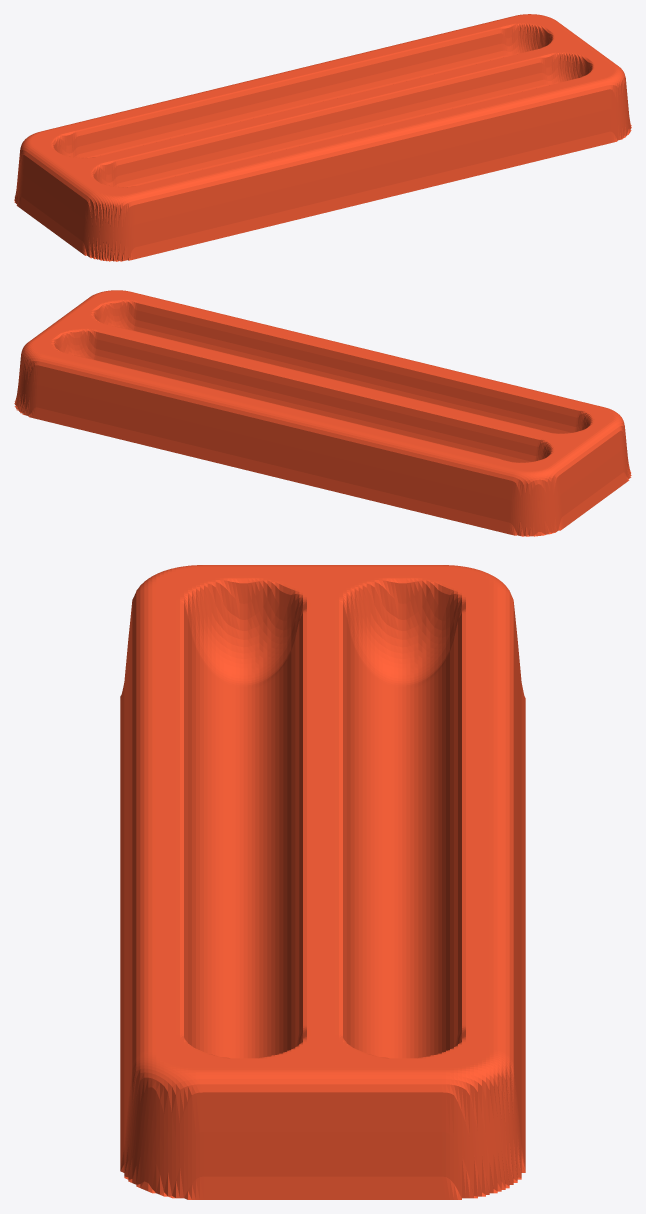
Rendered from mold.glb.
The picture shows the model from 3 angles, top to bottom: view 1: azimuth 30°, elevation 25°; view 2: azimuth 150°, elevation 25°; view 3: azimuth 270°, elevation 25°; orthographic projection. The views are drawn at different scales.
Visible parts, largest first — view 1: geometry_0; view 2: geometry_0; view 3: geometry_0.
Boxes of the visible parts, box(x1,y1,x2,y2) form: geometry_0: box(14, 14, 631, 261); geometry_0: box(14, 290, 631, 536); geometry_0: box(120, 565, 525, 1199).
Size of the model in its own units: 0.1417 by 0.0145 by 0.0457.
